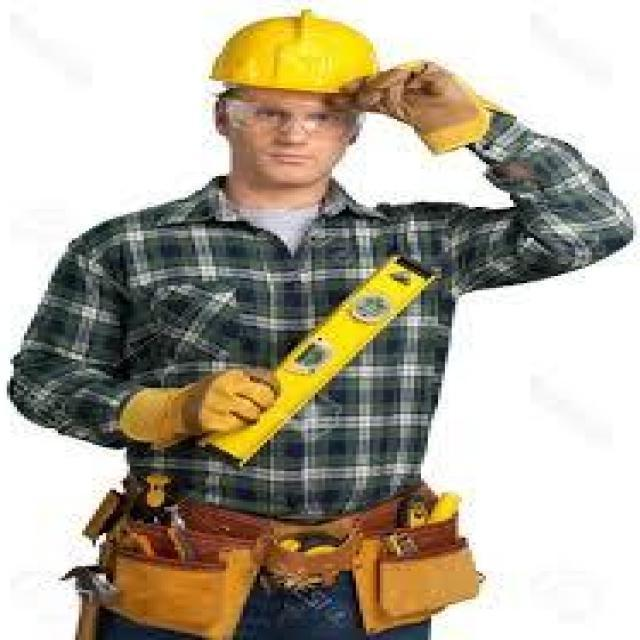helmet: (212, 5, 380, 91)
